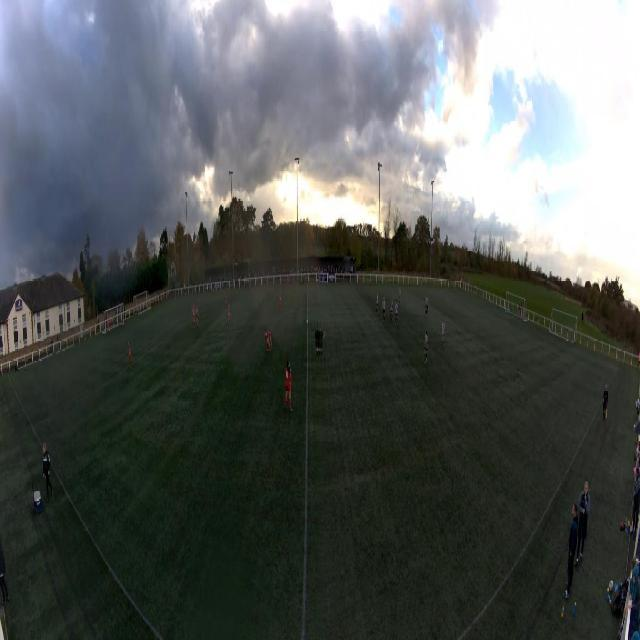ball: (306, 320, 308, 324)
player: (315, 322, 326, 362), (285, 361, 292, 411), (265, 330, 272, 352), (424, 329, 428, 364), (128, 340, 132, 371), (441, 320, 445, 350), (227, 302, 231, 330), (395, 300, 399, 327), (382, 297, 386, 323), (390, 298, 394, 323), (375, 292, 379, 316), (278, 290, 282, 311), (426, 296, 429, 317), (511, 302, 514, 322), (398, 287, 401, 306), (193, 304, 195, 328), (425, 294, 427, 316), (196, 306, 198, 327), (225, 291, 227, 308), (107, 316, 109, 333), (192, 302, 194, 314)
